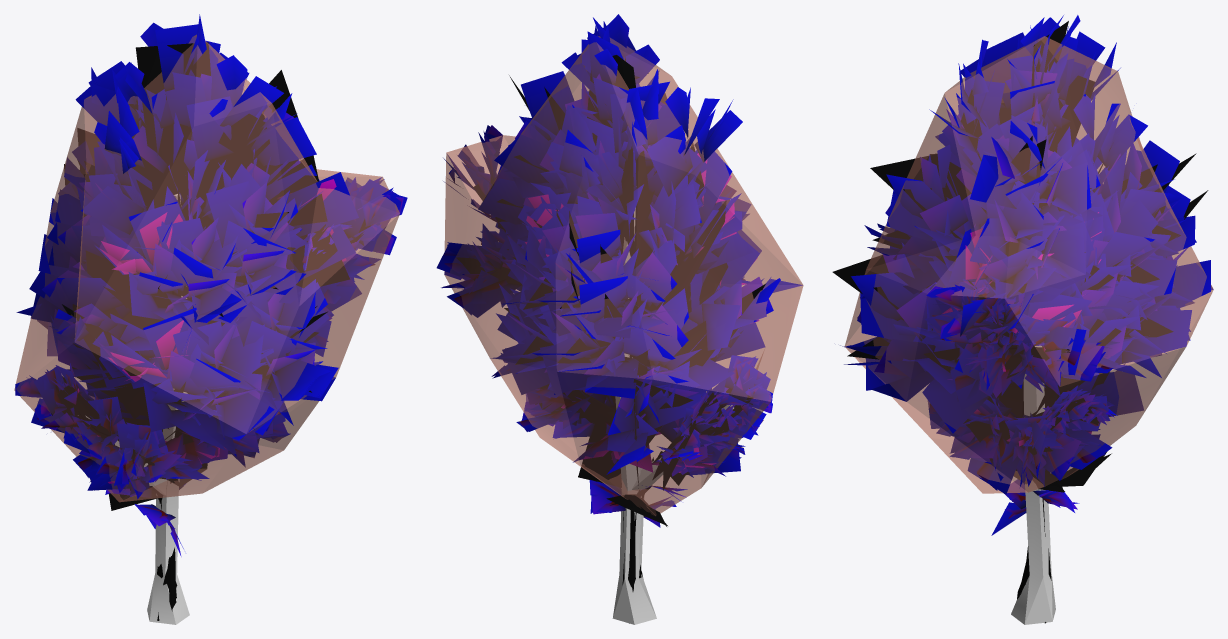
The model's file is tree_beech_large_c.dae.
3 views of the same model, side by side, from view 1: azimuth 30°, elevation 25°; view 2: azimuth 150°, elevation 25°; view 3: azimuth 270°, elevation 25° (orthographic). The views are drawn at different scales.
Visible parts, largest first — view 1: Colmesh_large_c-1, beech_large_c_a800, beech_large_c_a2000; view 2: Colmesh_large_c-1, beech_large_c_a800, beech_large_c_a2000; view 3: Colmesh_large_c-1, beech_large_c_a800, beech_large_c_a2000.
Part boxes in pixels (x1,y1,x2,y2): Colmesh_large_c-1: (14, 34, 399, 624); beech_large_c_a800: (15, 23, 407, 620); beech_large_c_a2000: (20, 14, 403, 620); Colmesh_large_c-1: (444, 36, 803, 624); beech_large_c_a800: (436, 14, 780, 591); beech_large_c_a2000: (441, 17, 802, 586); Colmesh_large_c-1: (844, 36, 1213, 624); beech_large_c_a800: (832, 15, 1208, 594); beech_large_c_a2000: (852, 15, 1213, 623).
Bounding box in the file's own units: 10.8 × 9.74 × 17.43.
